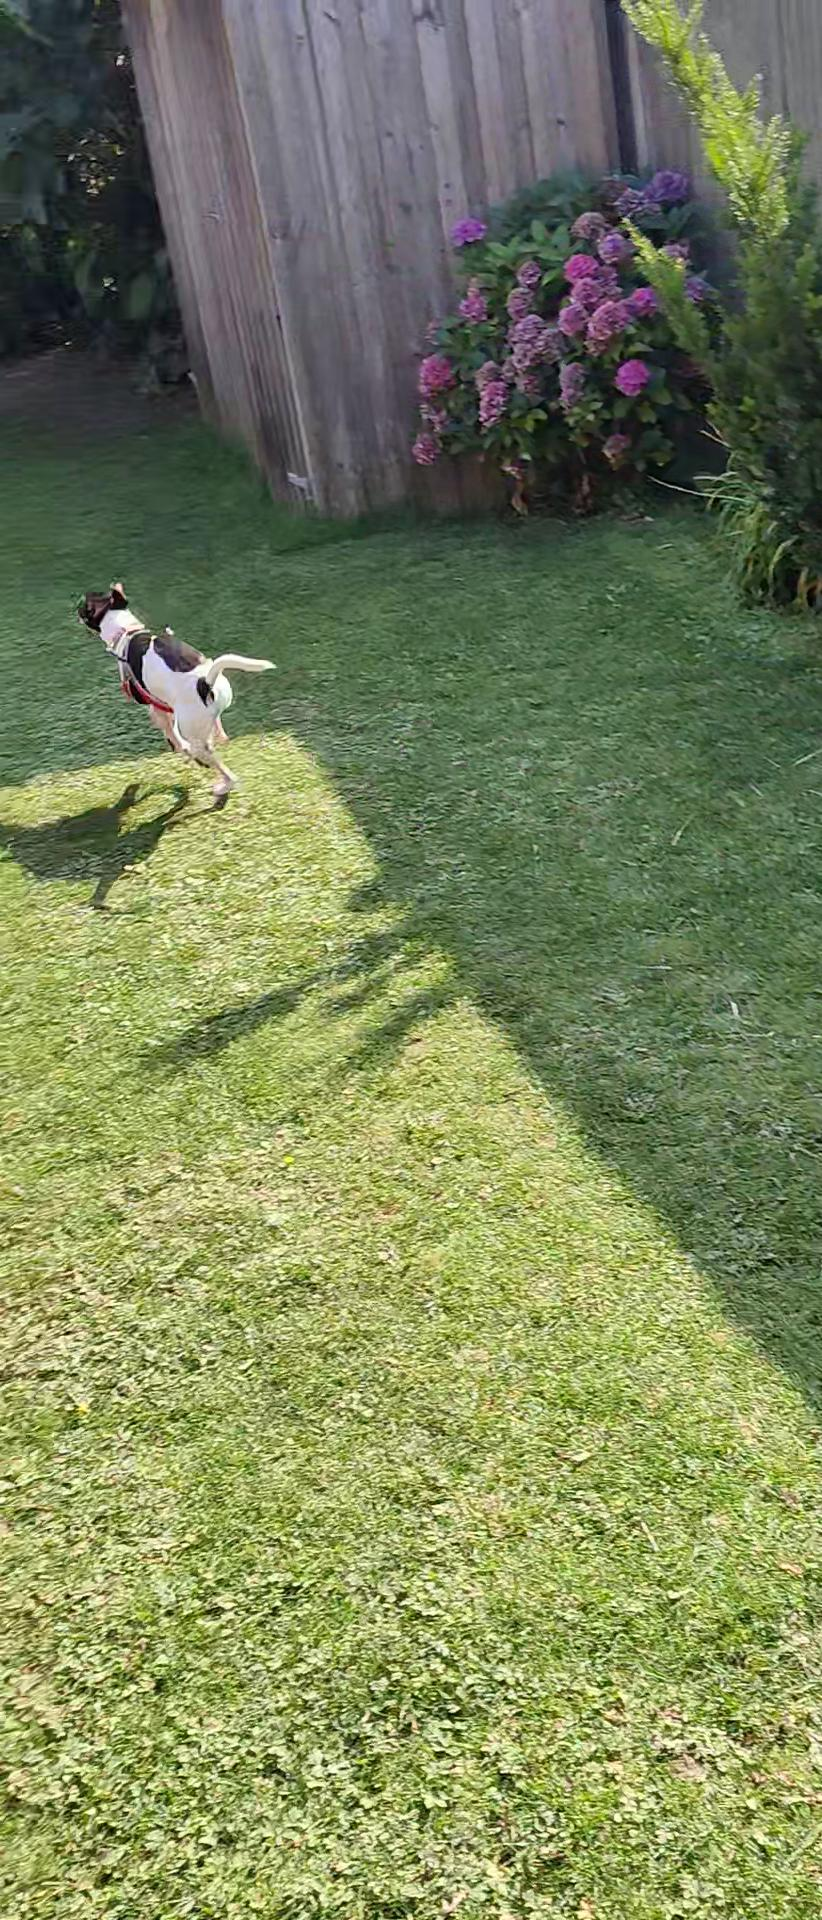Dog: (54, 574, 295, 816)
